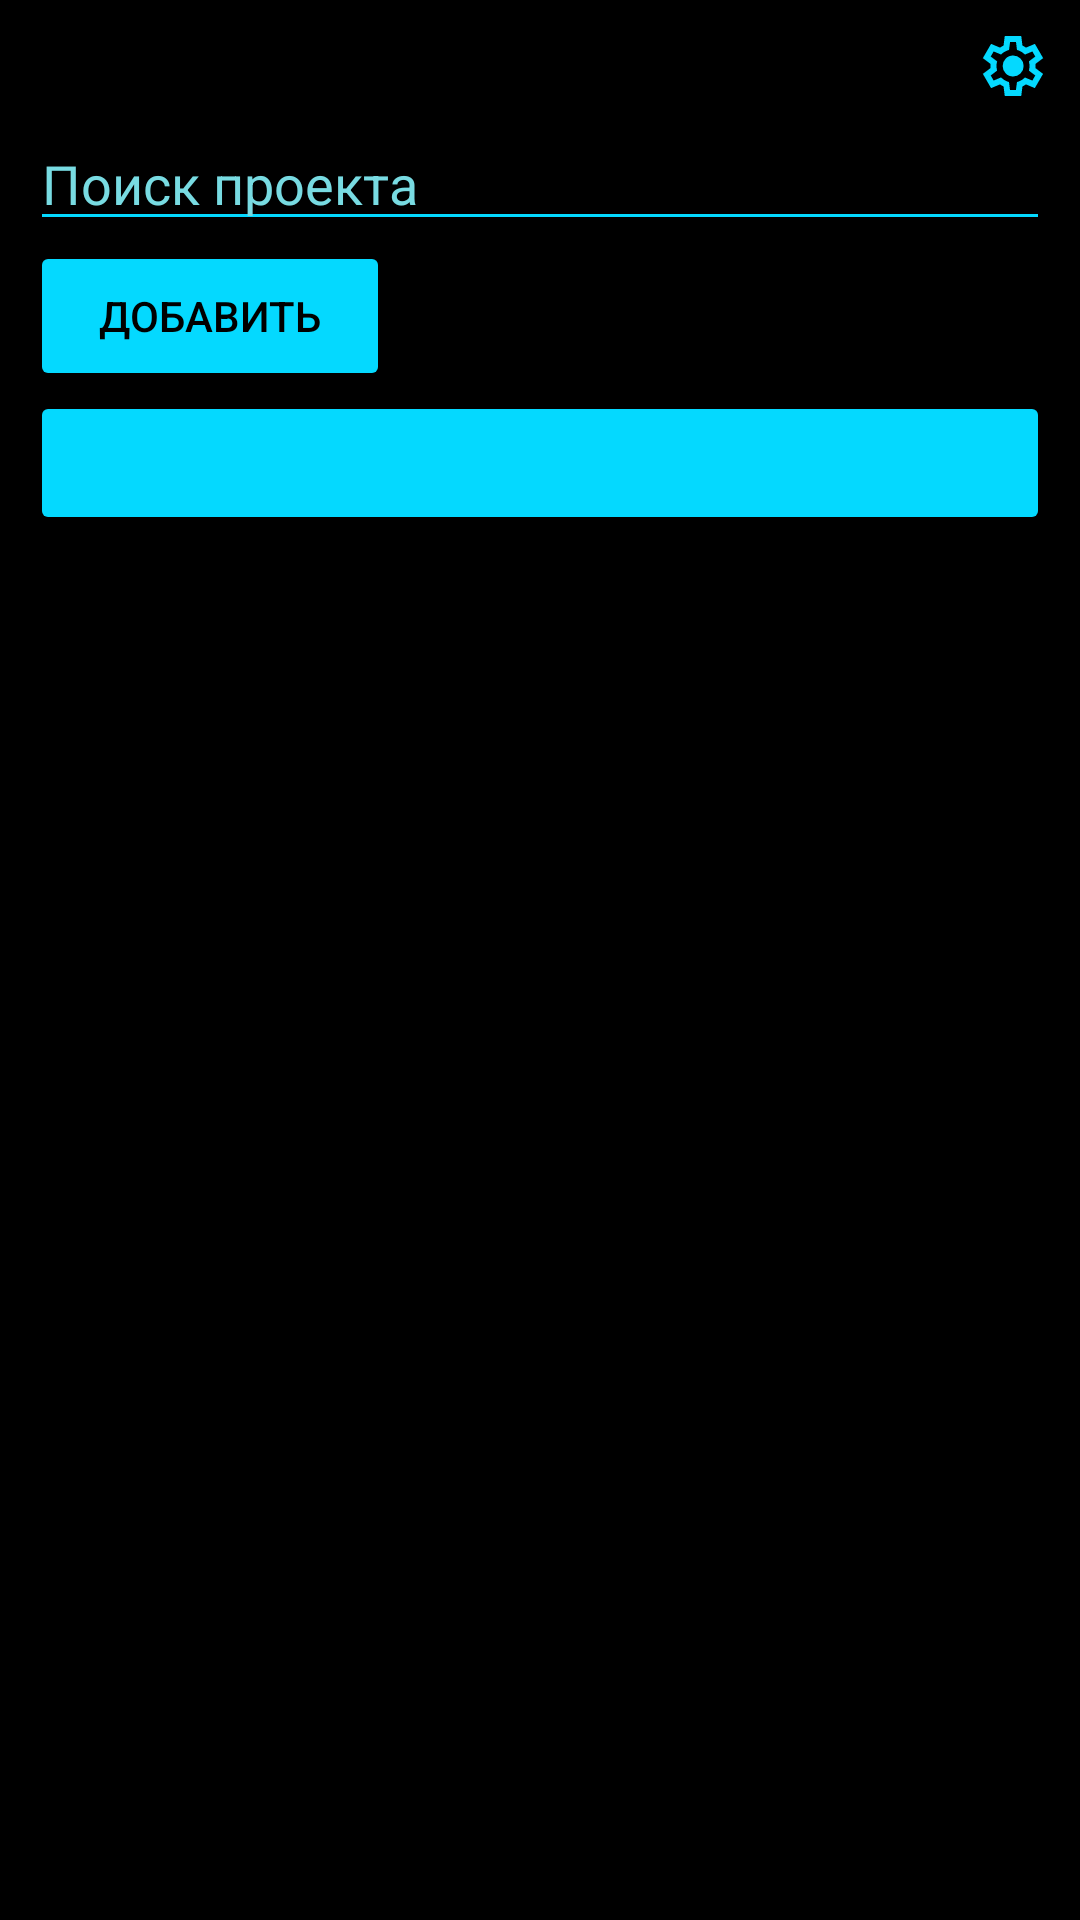

Screen size 1080×1920. Icon name, then its center in pixels as [x,y]:
settings project: [1013,66]
